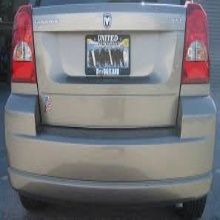no damage: (5, 1, 218, 218)
